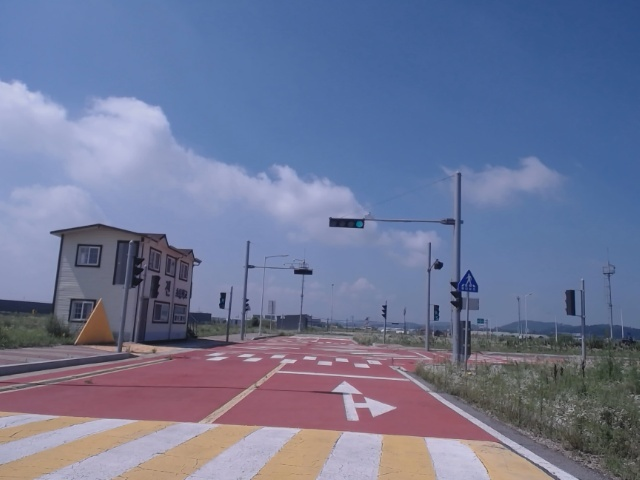straight_green_4: (329, 218, 364, 228)
